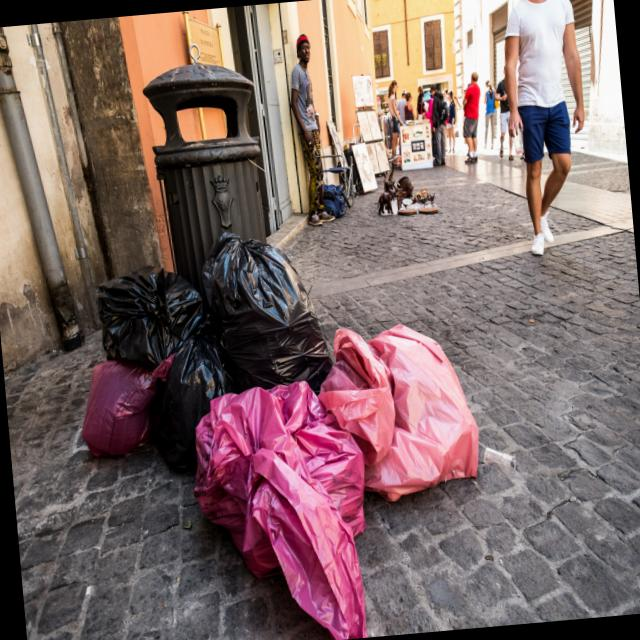garbage: (61, 218, 501, 640)
